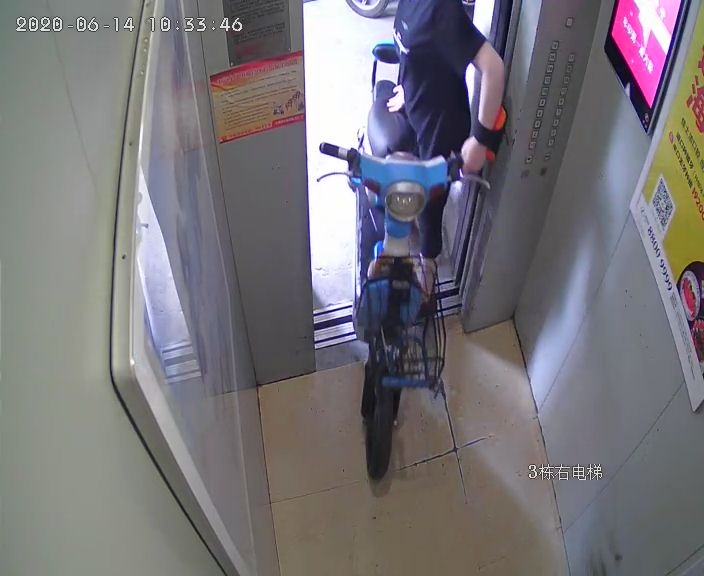Electric-bicycle: (318, 46, 492, 478)
